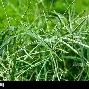weed: (0, 0, 88, 80)
